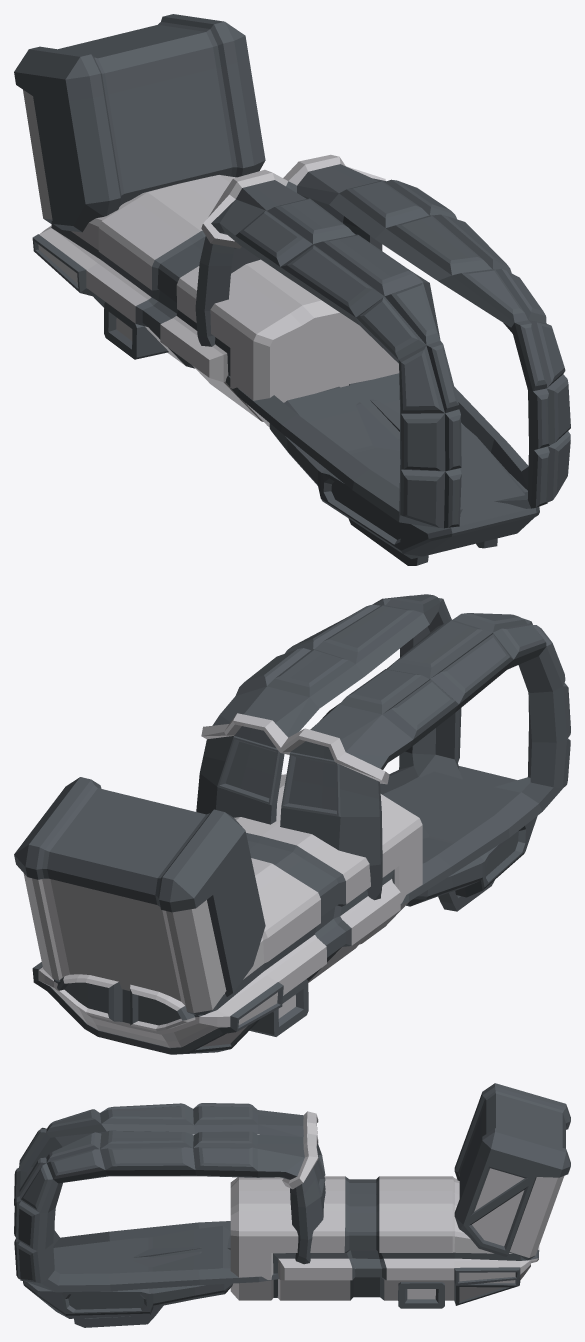
The model's file is Personal_Vehicle_02_Body.fbx.
The picture shows the model from 3 angles, top to bottom: view 1: azimuth 30°, elevation 25°; view 2: azimuth 150°, elevation 25°; view 3: azimuth 270°, elevation 25°; orthographic projection. The views are drawn at different scales.
Visible parts, largest first — view 1: Personal_Vehicle_02_Body; view 2: Personal_Vehicle_02_Body; view 3: Personal_Vehicle_02_Body.
Part boxes in pixels (x1=…): Personal_Vehicle_02_Body: x1=14, y1=14, x2=570, y2=565; Personal_Vehicle_02_Body: x1=14, y1=594, x2=570, y2=1054; Personal_Vehicle_02_Body: x1=14, y1=1083, x2=570, y2=1327.
Bounding box in the file's own units: 104 × 144 × 353.
Materials: 2 (2 with a texture image).
